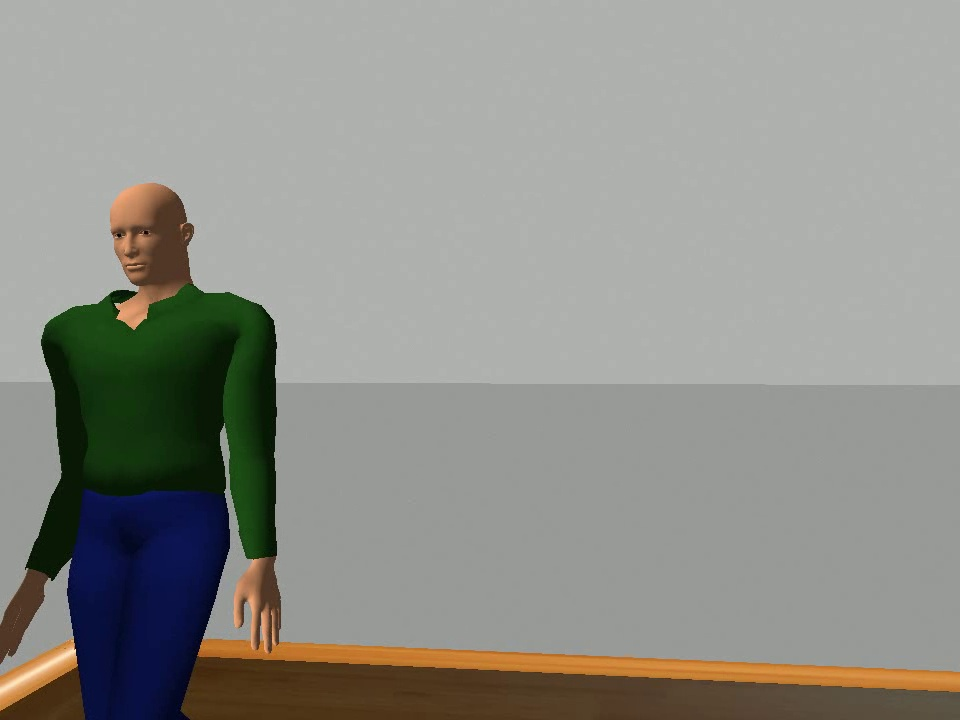person: (1, 175, 286, 720)
